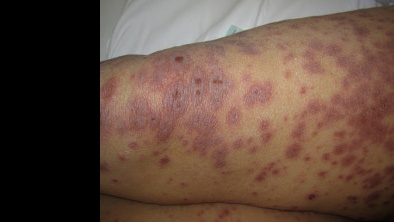SJS-TEN: (89, 0, 394, 222)
